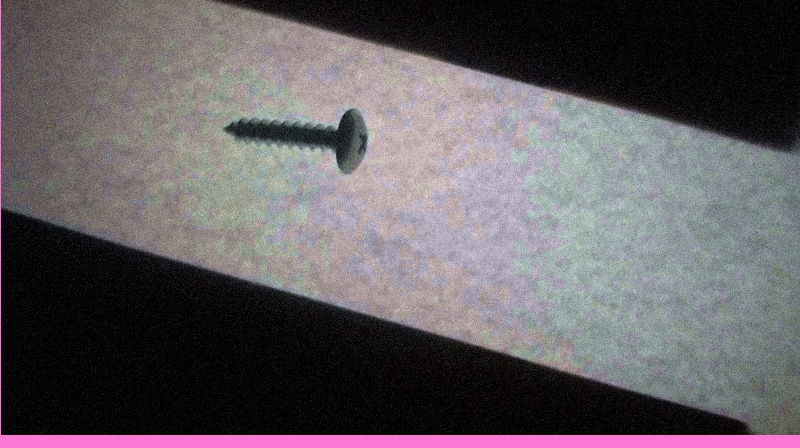S003: (217, 105, 370, 175)
